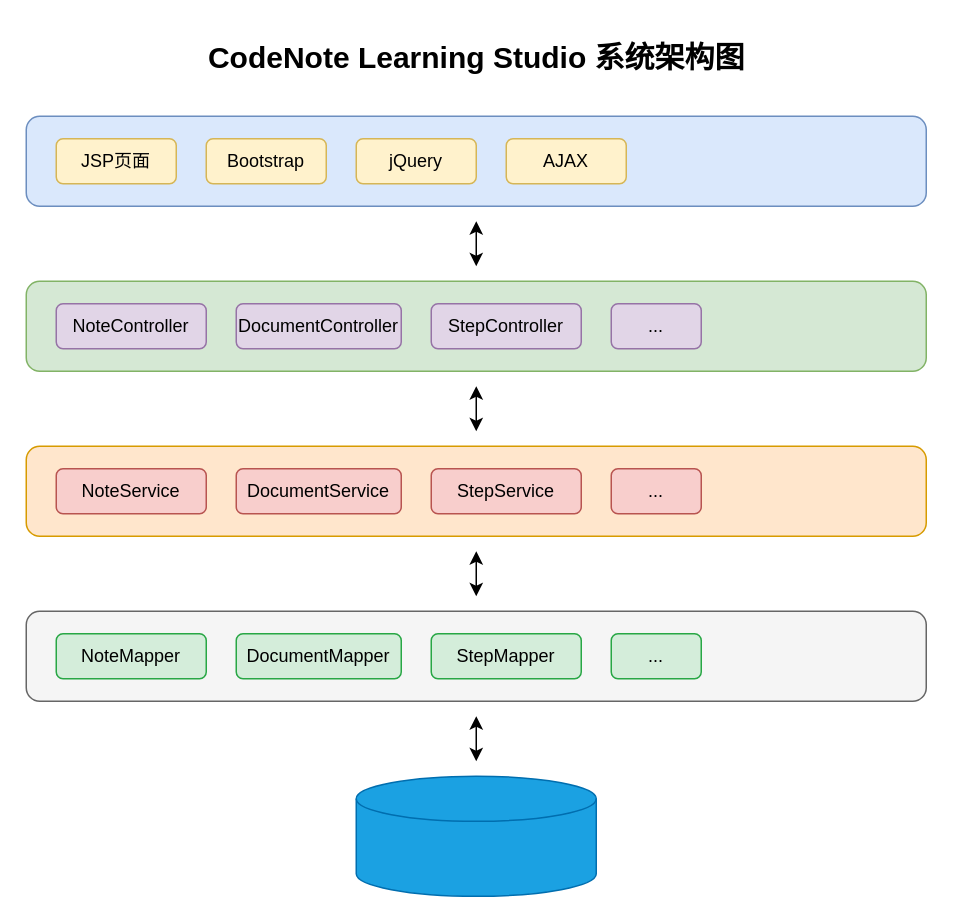
Image size: 953x923. Some labels were removed from this diagram. Here are the shapes that lost their labels. From the top down, the box of each, then its label:
(25, 115, 926, 206): 表现层 (Presentation Layer)
(25, 280, 926, 371): 控制层 (Controller Layer) - SpringMVC
(25, 445, 926, 536): 业务层 (Service Layer) - Spring IoC
(25, 610, 926, 701): 持久层 (DAO Layer) - MyBatis
(355, 775, 596, 896): MySQL数据库 (15张表)
